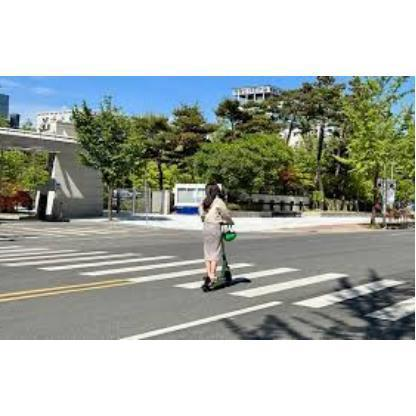with scooter: (200, 184, 236, 293)
